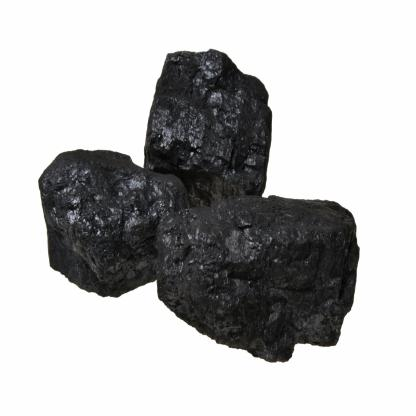Sedimentary_coal: (141, 184, 378, 368), (26, 134, 184, 309), (134, 40, 280, 206)
